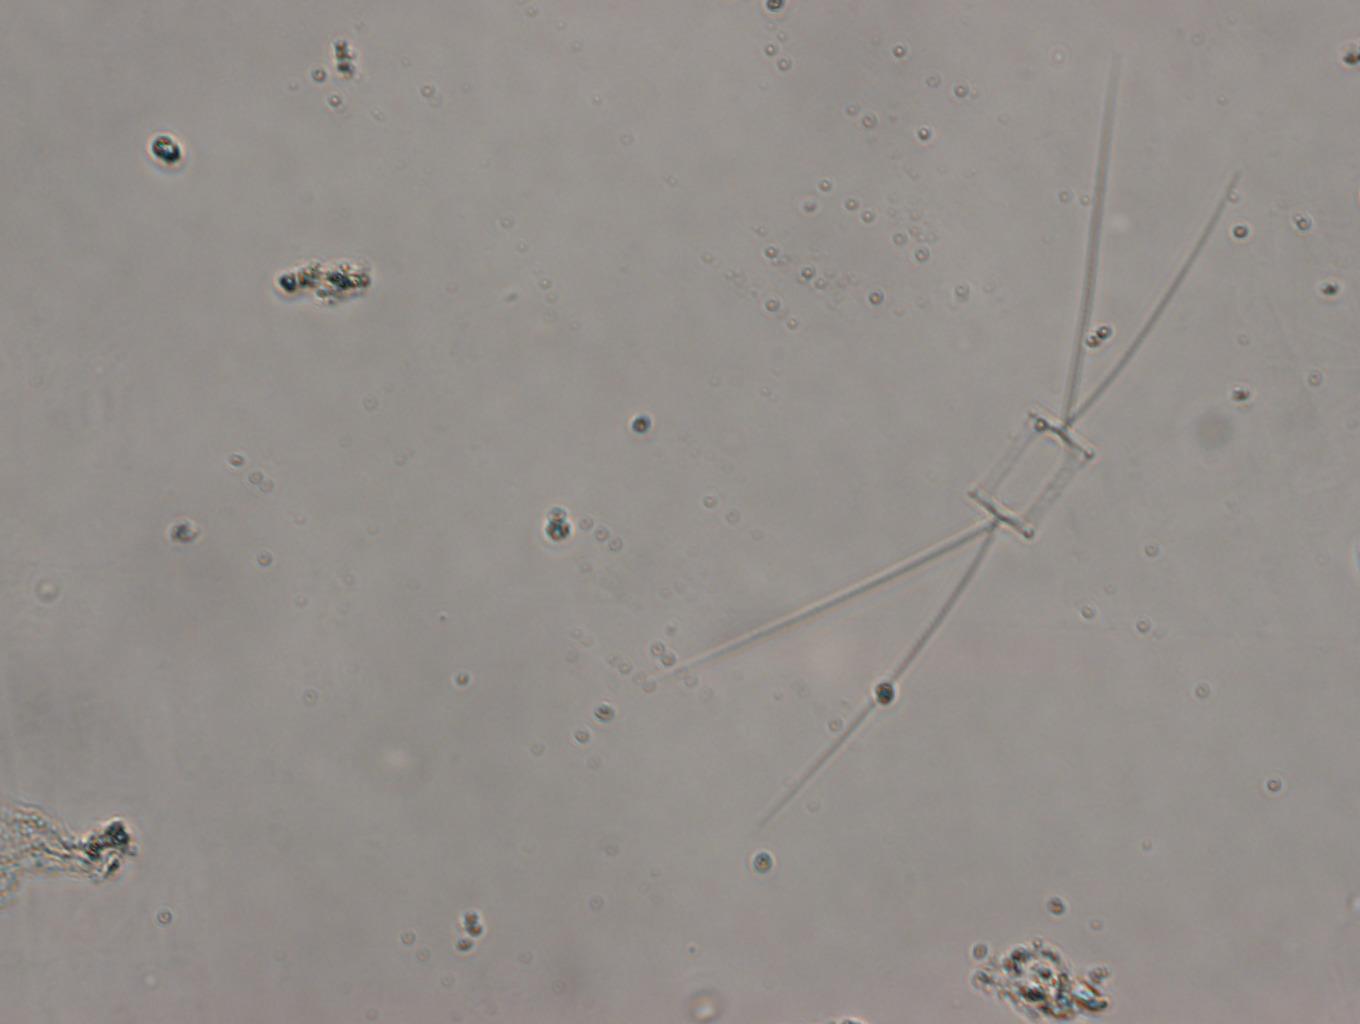chaetoceros: (671, 53, 1252, 831)
